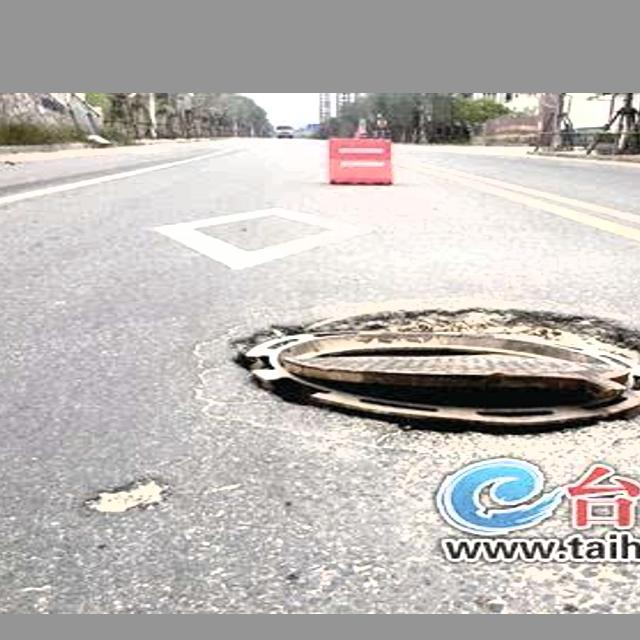circle: (131, 293, 640, 464)
